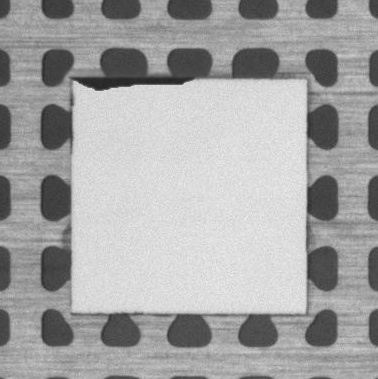DIE_BROKEN: (66, 72, 198, 92)
